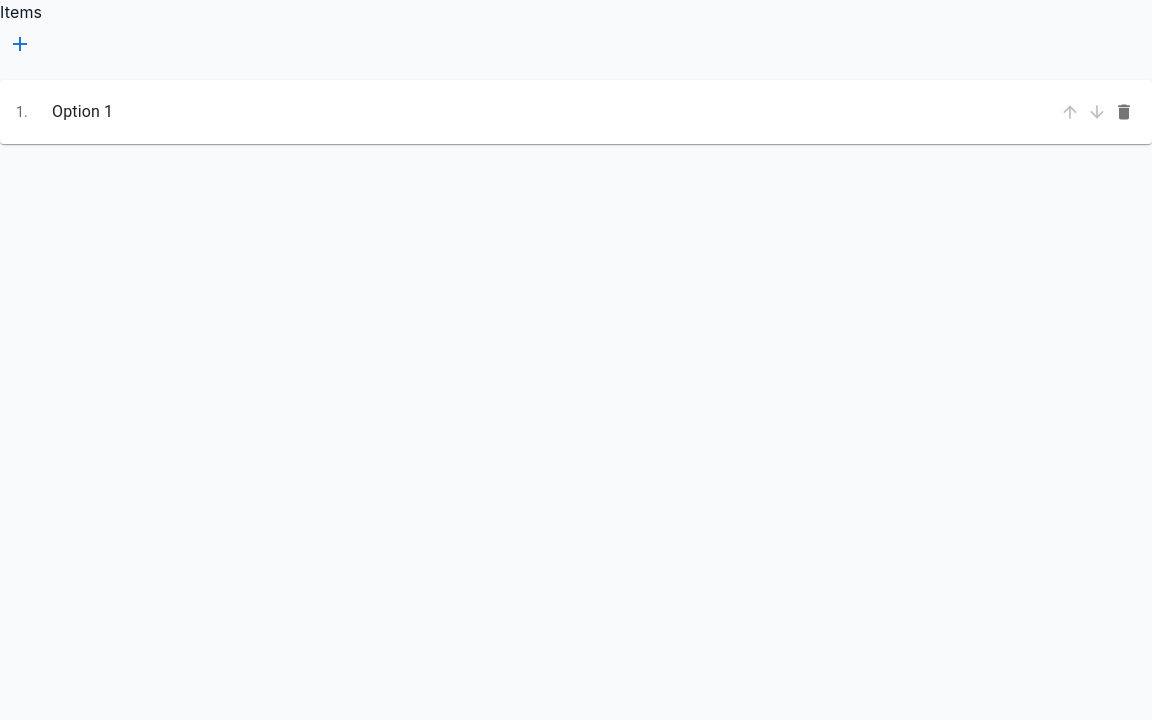
Test: OrderedEditableListWrapper › Internal Filtering › should filter out selected items from autocomplete options
Check: the text "Option 1" is shown, box [52,102,113,121]
Note: Open add dialog
Click the button named "add item". click: coordinates (20, 44)
box: [0,24,40,64]
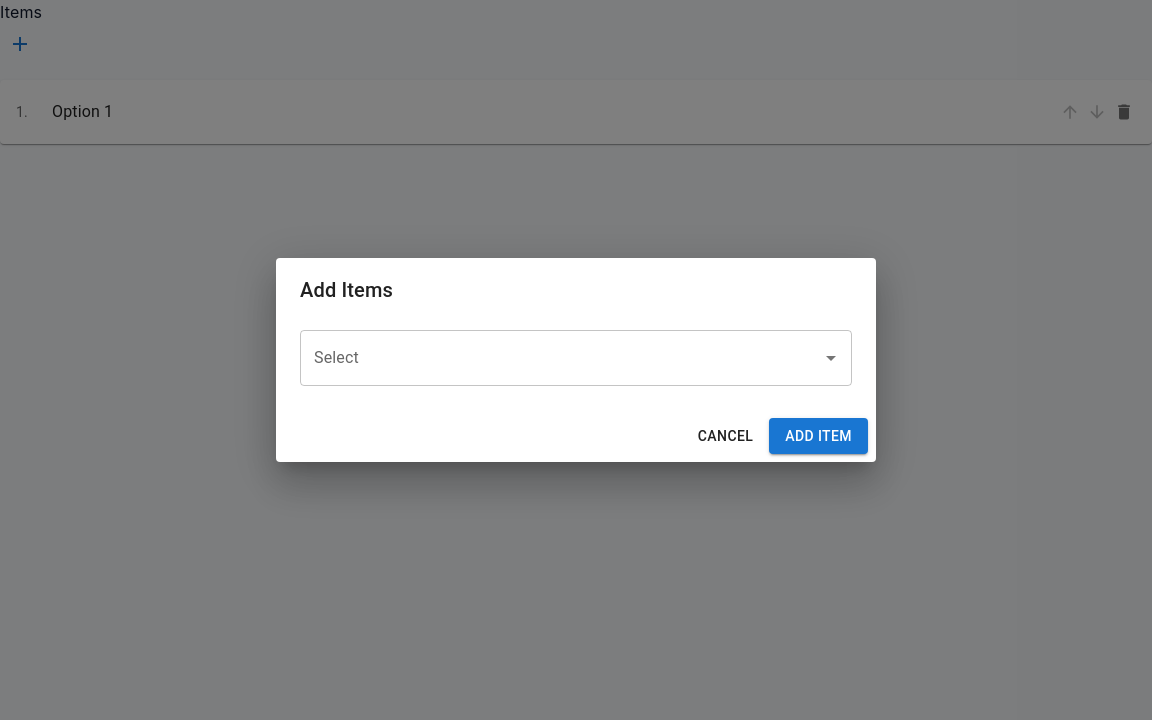
Note: Click to open autocomplete dropdown
Click the dropdown labelled "Select". click: coordinates (561, 358)
box: [309,339,813,377]
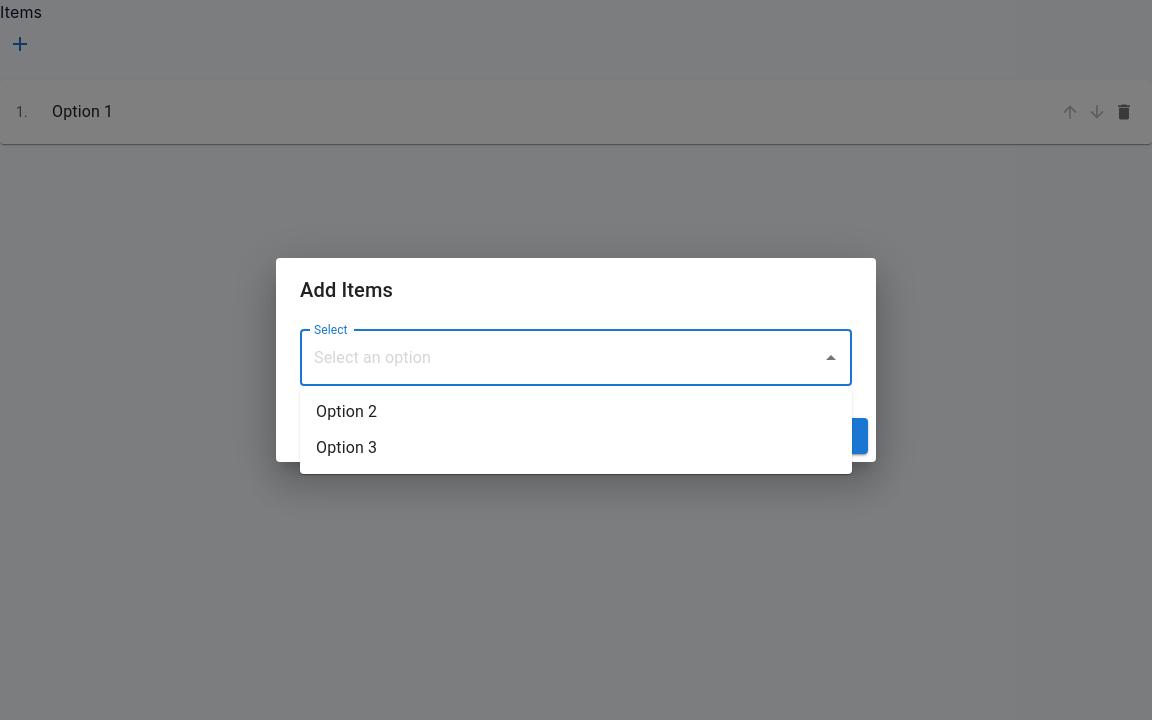
Check: the option "Option 2" is shown, box [316,402,377,421]
Check: the option "Option 3" is shown, box [316,438,377,457]
